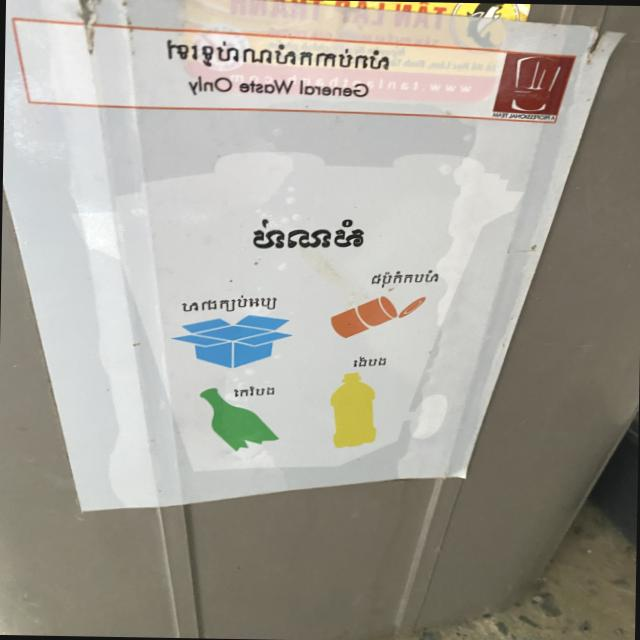Yolov11_80vkh: (158, 32, 398, 81), (249, 215, 376, 252), (175, 290, 277, 321), (365, 268, 445, 289), (227, 384, 279, 400), (348, 354, 393, 370)
